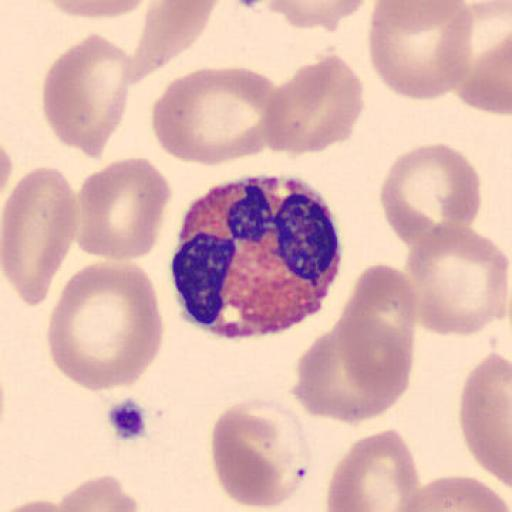RBC: (37, 0, 222, 90), (322, 261, 419, 426), (48, 259, 162, 394), (152, 65, 278, 168), (402, 220, 511, 337), (292, 321, 413, 425), (40, 33, 134, 159), (378, 141, 482, 254), (210, 398, 314, 510), (258, 54, 365, 158), (2, 165, 79, 309), (85, 1, 217, 85), (367, 0, 475, 102), (335, 262, 419, 388), (75, 154, 172, 262), (325, 427, 423, 512), (123, 0, 220, 83), (458, 352, 512, 494), (451, 0, 512, 116), (42, 0, 195, 42), (388, 474, 511, 512), (455, 36, 512, 116), (263, 0, 371, 34), (42, 0, 217, 20), (57, 474, 141, 512), (41, 0, 152, 20), (0, 496, 77, 512), (0, 138, 14, 206)
WBC: (168, 175, 344, 337)
